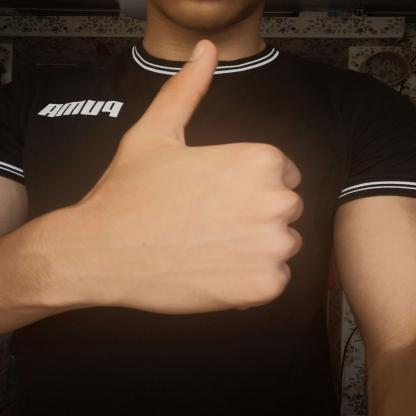ALIF: (51, 28, 324, 332)
